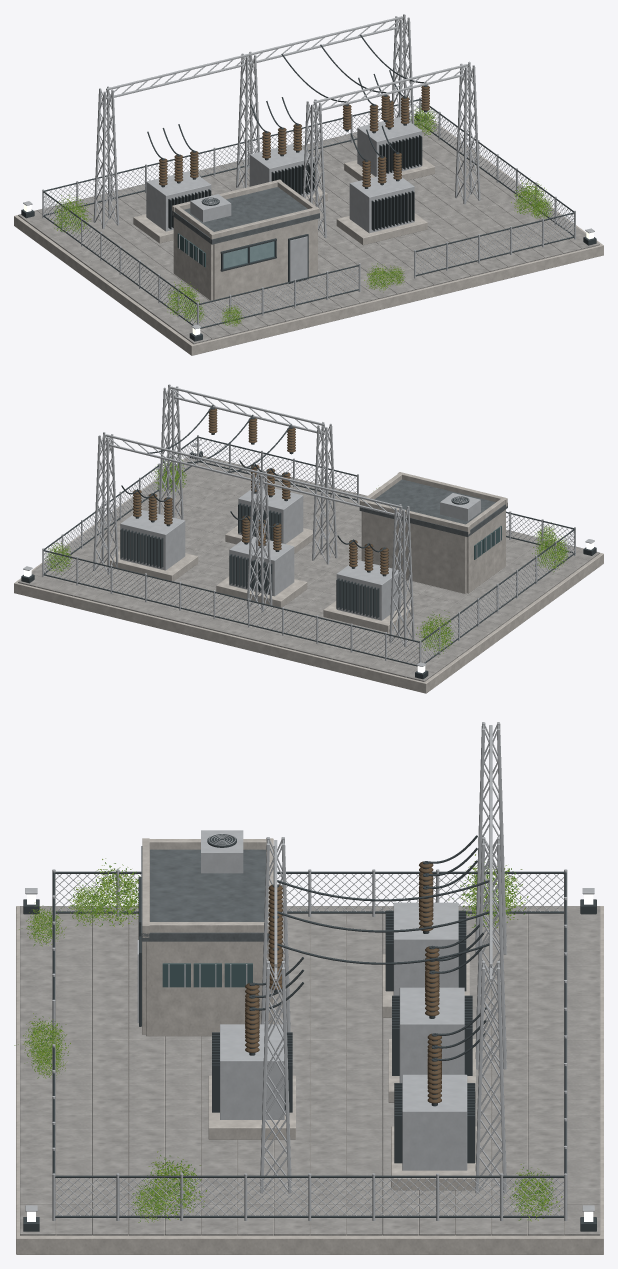
The model's file is subestacion.fbx.
3 renders of one model, top to bottom at view 1: azimuth 30°, elevation 25°; view 2: azimuth 150°, elevation 25°; view 3: azimuth 270°, elevation 25°, orthographic. The views are drawn at different scales.
Parts seen in each view (by area): view 1: Solar · Loseta mineral, Transformadores y aisladores · Inox cepillado, Cerramiento · Inox cepillado, Casa de control · Prefabricado caliza, Solar · Prefabricado caliza, Transformadores y aisladores · Perfilería antracita, Cerramiento · Perfilería antracita, Transformadores y aisladores · Porcelana de aislador, Casa de control · Membrana bituminosa, Transformadores y aisladores · Prefabricado caliza, Casa de control · Inox cepillado, Casa de control · Perfilería antracita (+5 smaller); view 2: Solar · Loseta mineral, Transformadores y aisladores · Inox cepillado, Cerramiento · Inox cepillado, Casa de control · Prefabricado caliza, Solar · Prefabricado caliza, Transformadores y aisladores · Perfilería antracita, Transformadores y aisladores · Prefabricado caliza, Cerramiento · Perfilería antracita, Transformadores y aisladores · Porcelana de aislador, Casa de control · Membrana bituminosa, Casa de control · Inox cepillado, Follaje.009 (+2 smaller); view 3: Solar · Loseta mineral, Transformadores y aisladores · Inox cepillado, Solar · Prefabricado caliza, Cerramiento · Inox cepillado, Casa de control · Prefabricado caliza, Transformadores y aisladores · Perfilería antracita, Casa de control · Membrana bituminosa, Cerramiento · Perfilería antracita, Transformadores y aisladores · Prefabricado caliza, Transformadores y aisladores · Porcelana de aislador, Casa de control · Inox cepillado, Casa de control · Vidrio ahumado (+10 smaller).
Part boxes in pixels (x1,y1,x2,y2): Solar · Loseta mineral: (18, 118, 599, 344); Transformadores y aisladores · Inox cepillado: (93, 14, 480, 238); Cerramiento · Inox cepillado: (42, 97, 575, 326); Casa de control · Prefabricado caliza: (172, 179, 319, 300); Solar · Prefabricado caliza: (14, 118, 603, 355); Transformadores y aisladores · Perfilería antracita: (147, 35, 427, 230); Cerramiento · Perfilería antracita: (43, 99, 574, 328); Transformadores y aisladores · Porcelana de aislador: (159, 85, 429, 187); Casa de control · Membrana bituminosa: (171, 187, 319, 244); Transformadores y aisladores · Prefabricado caliza: (133, 157, 434, 245); Casa de control · Inox cepillado: (179, 194, 307, 281); Casa de control · Perfilería antracita: (201, 197, 308, 283); Solar · Loseta mineral: (18, 455, 599, 681); Transformadores y aisladores · Inox cepillado: (93, 384, 414, 646); Cerramiento · Inox cepillado: (42, 435, 575, 664); Casa de control · Prefabricado caliza: (360, 472, 507, 593); Solar · Prefabricado caliza: (14, 456, 603, 693); Transformadores y aisladores · Perfilería antracita: (120, 405, 386, 618); Transformadores y aisladores · Prefabricado caliza: (107, 525, 414, 632); Cerramiento · Perfilería antracita: (43, 436, 575, 666); Transformadores y aisladores · Porcelana de aislador: (133, 408, 388, 574); Casa de control · Membrana bituminosa: (359, 479, 507, 536); Casa de control · Inox cepillado: (440, 493, 500, 558); Follaje.009: (416, 610, 455, 657); Solar · Loseta mineral: (20, 906, 600, 1235); Transformadores y aisladores · Inox cepillado: (220, 722, 506, 1193); Solar · Prefabricado caliza: (16, 906, 603, 1254); Cerramiento · Inox cepillado: (52, 869, 567, 1220); Casa de control · Prefabricado caliza: (142, 838, 273, 1036); Transformadores y aisladores · Perfilería antracita: (212, 835, 489, 1163); Casa de control · Membrana bituminosa: (141, 846, 274, 941); Cerramiento · Perfilería antracita: (53, 871, 566, 1217); Transformadores y aisladores · Prefabricado caliza: (208, 954, 476, 1190); Transformadores y aisladores · Porcelana de aislador: (245, 861, 441, 1103); Casa de control · Inox cepillado: (137, 830, 247, 1022); Casa de control · Vidrio ahumado: (162, 963, 252, 987).
Size of the model in its own units: 15.4 by 5.28 by 11.54.
Materials: 13 (4 with a texture image).
